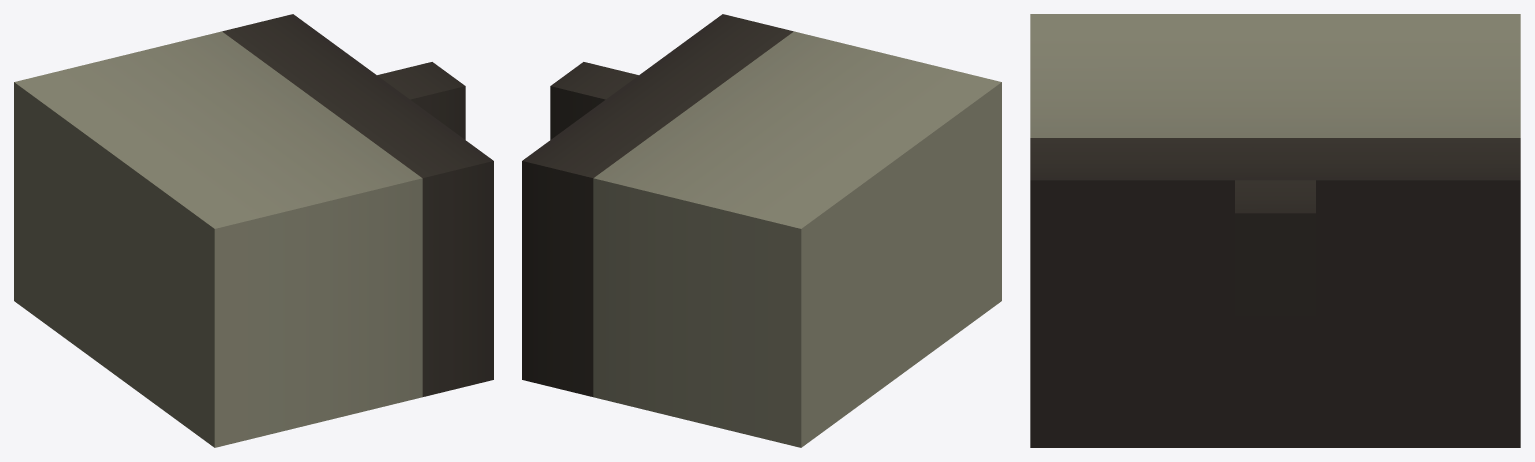
File: SK_Cartridge_Black.fbx
3 renders of one model, left to right at view 1: azimuth 30°, elevation 25°; view 2: azimuth 150°, elevation 25°; view 3: azimuth 270°, elevation 25°, orthographic. The views are drawn at different scales.
Parts seen in each view (by area): view 1: blackCartridge; view 2: blackCartridge; view 3: blackCartridge.
Part boxes in pixels (bbox=[...]): blackCartridge: bbox=[14, 14, 493, 447]; blackCartridge: bbox=[522, 14, 1001, 447]; blackCartridge: bbox=[1030, 14, 1520, 447].
Bounding box in the file's own units: 9.38 × 5.87 × 9.74.
